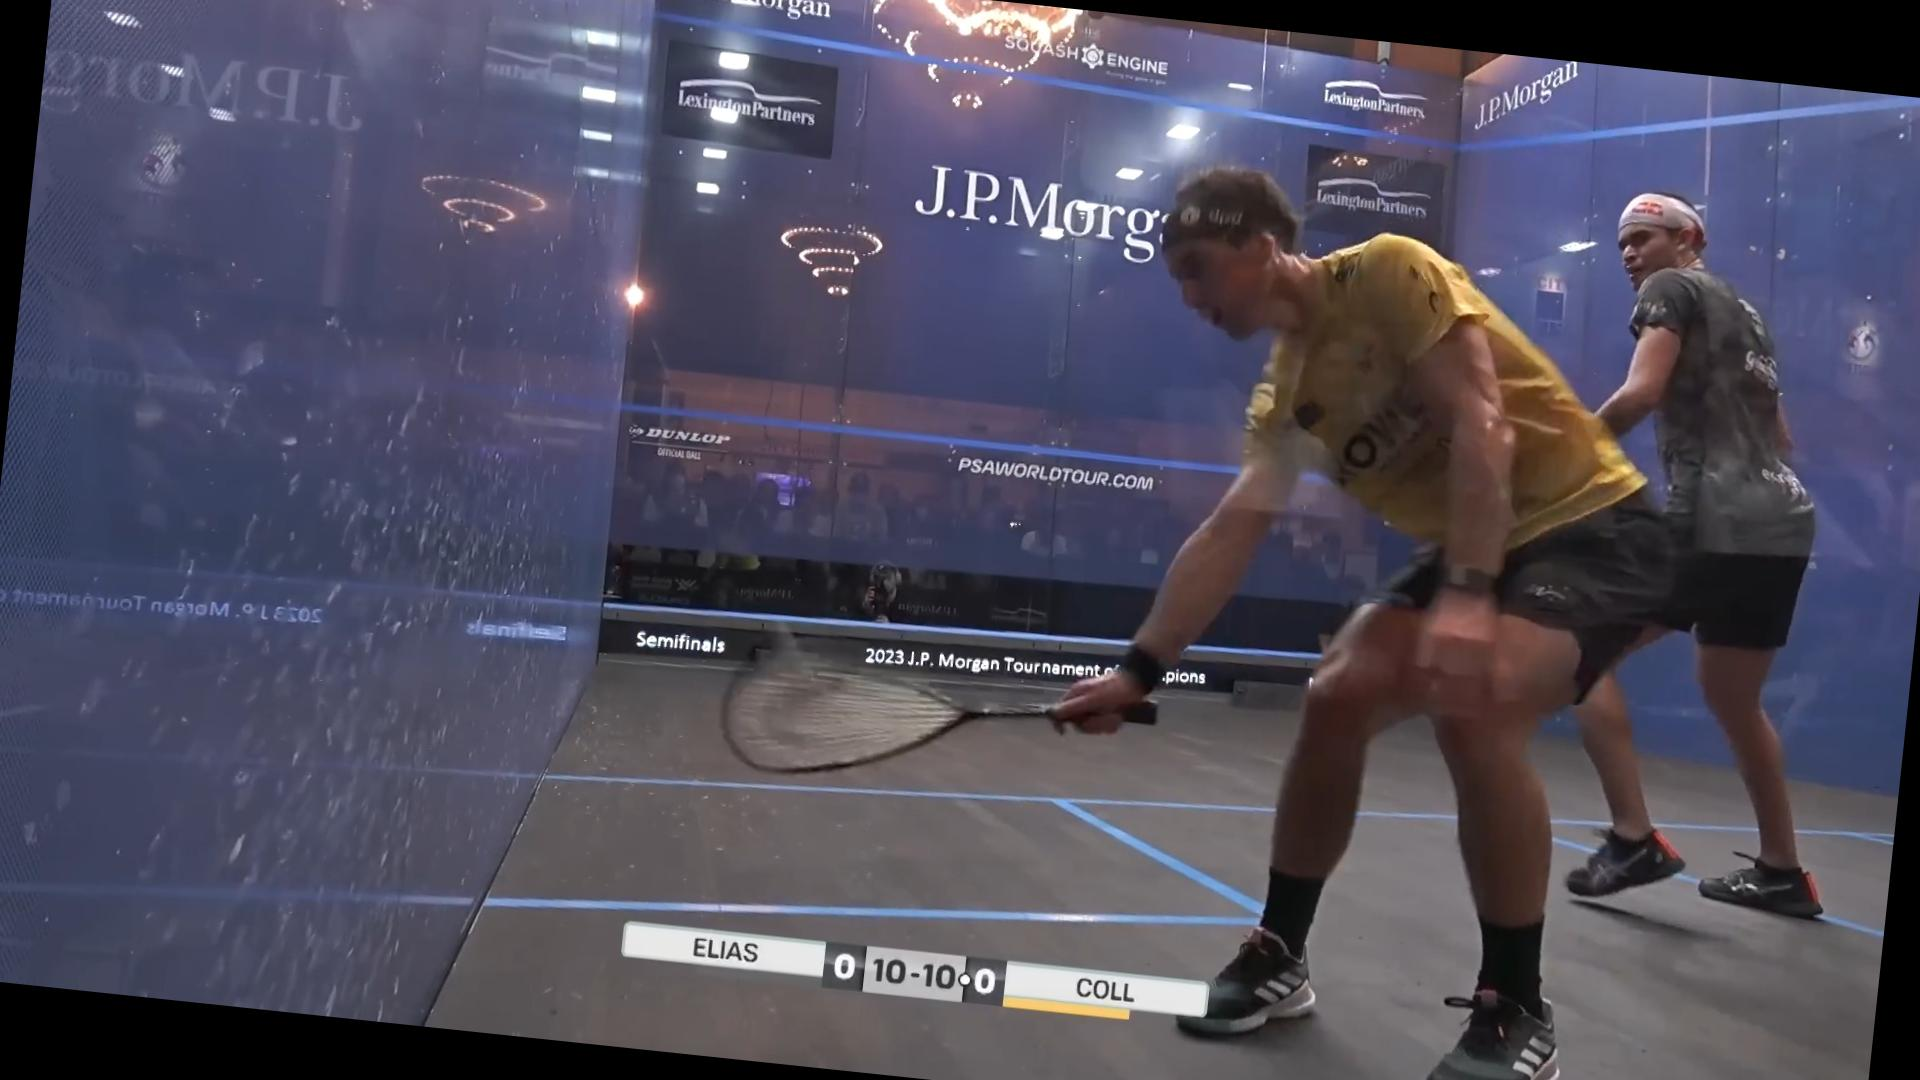Racket: (699, 636, 1163, 818)
